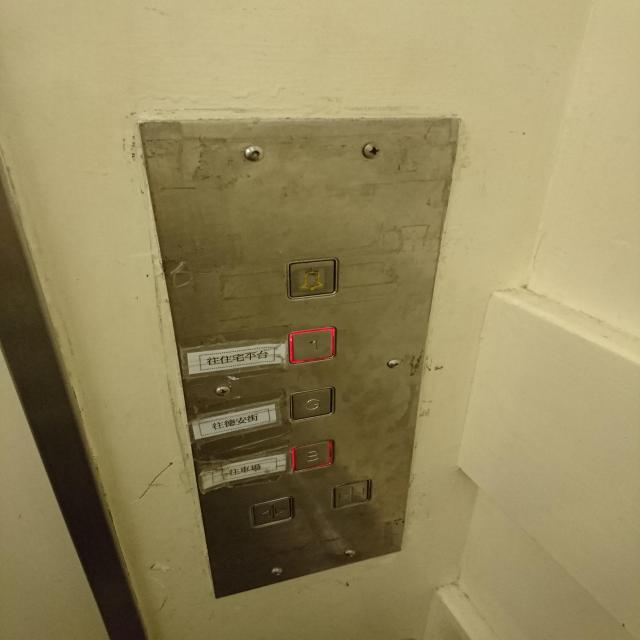1: (288, 324, 336, 366)
B: (289, 438, 335, 474)
G: (288, 386, 335, 424)
alarm: (286, 256, 339, 302)
close: (330, 476, 373, 512)
open: (249, 494, 295, 530)
